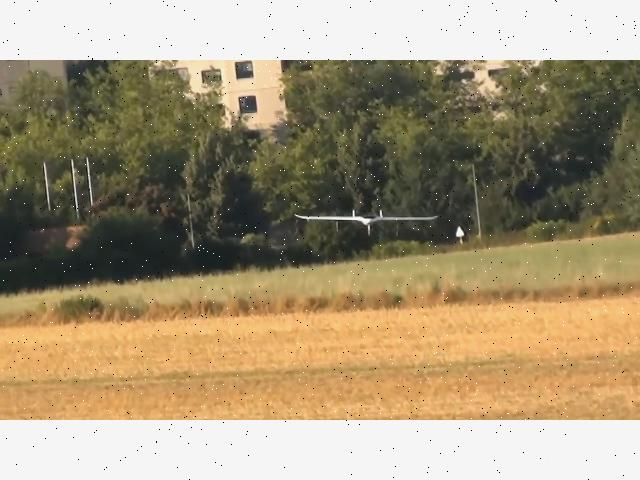Anti-Drone: (292, 215, 436, 224)
